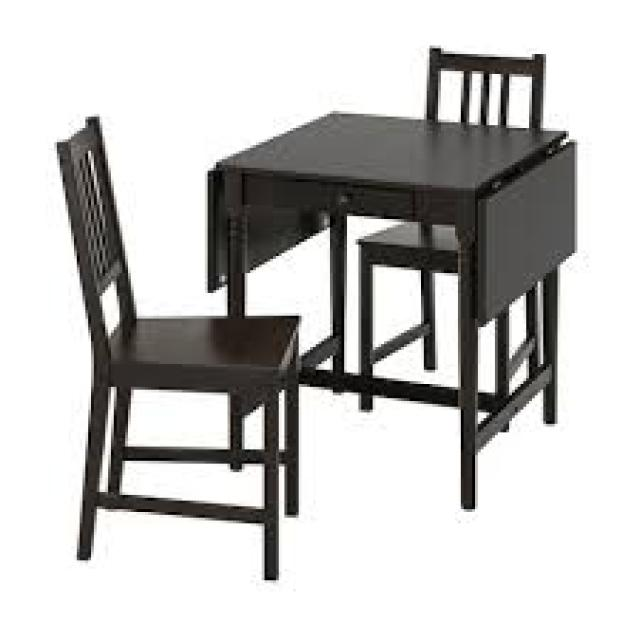obstacle: (200, 56, 626, 433), (40, 100, 362, 594)
